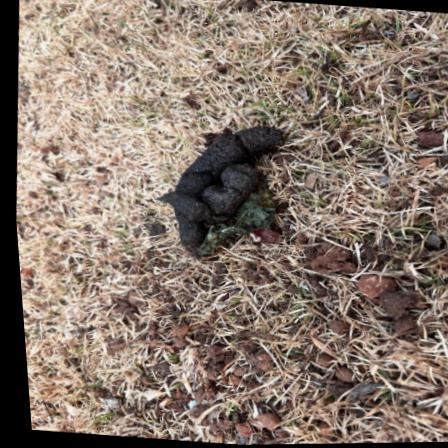dog-poop: (146, 105, 299, 264)
